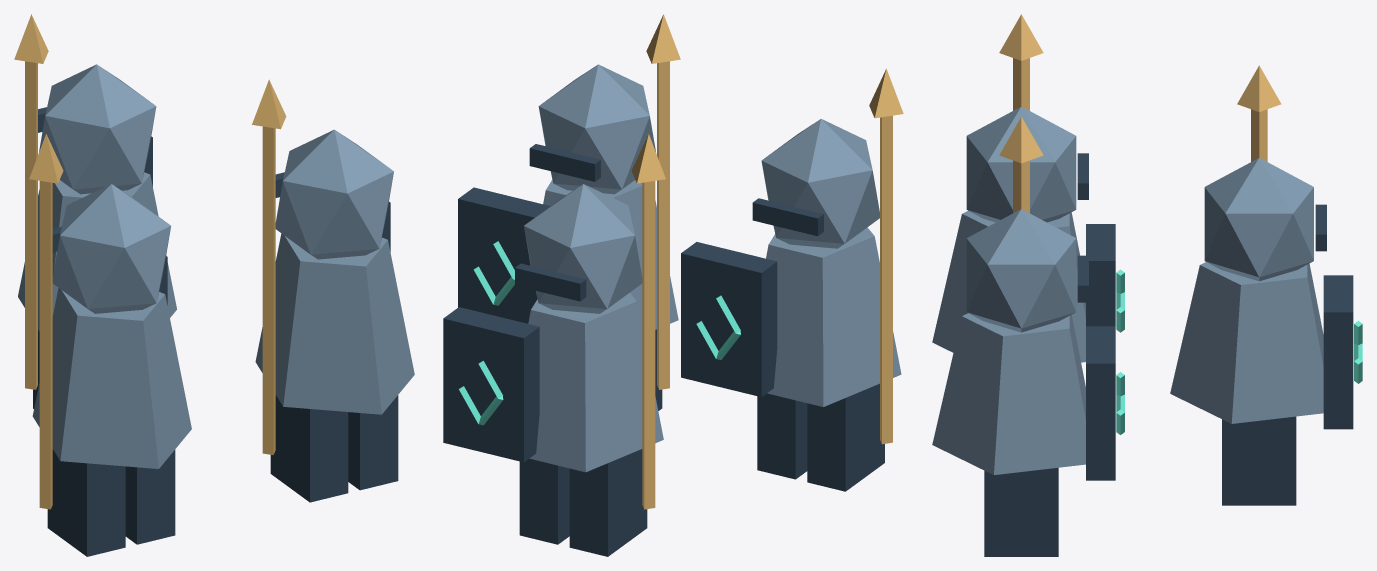
Rendered from Troop.fbx.
3 views of the same model, side by side, from view 1: azimuth 30°, elevation 25°; view 2: azimuth 150°, elevation 25°; view 3: azimuth 270°, elevation 25° (orthographic). The views are drawn at different scales.
Visible parts, largest first — view 1: Troop; view 2: Troop; view 3: Troop.
Boxes of the visible parts, x1,y1,x2,y2 form: Troop: (14, 14, 414, 556); Troop: (443, 14, 903, 556); Troop: (932, 14, 1362, 556).
Size of the model in its own units: 1 by 1 by 1.
